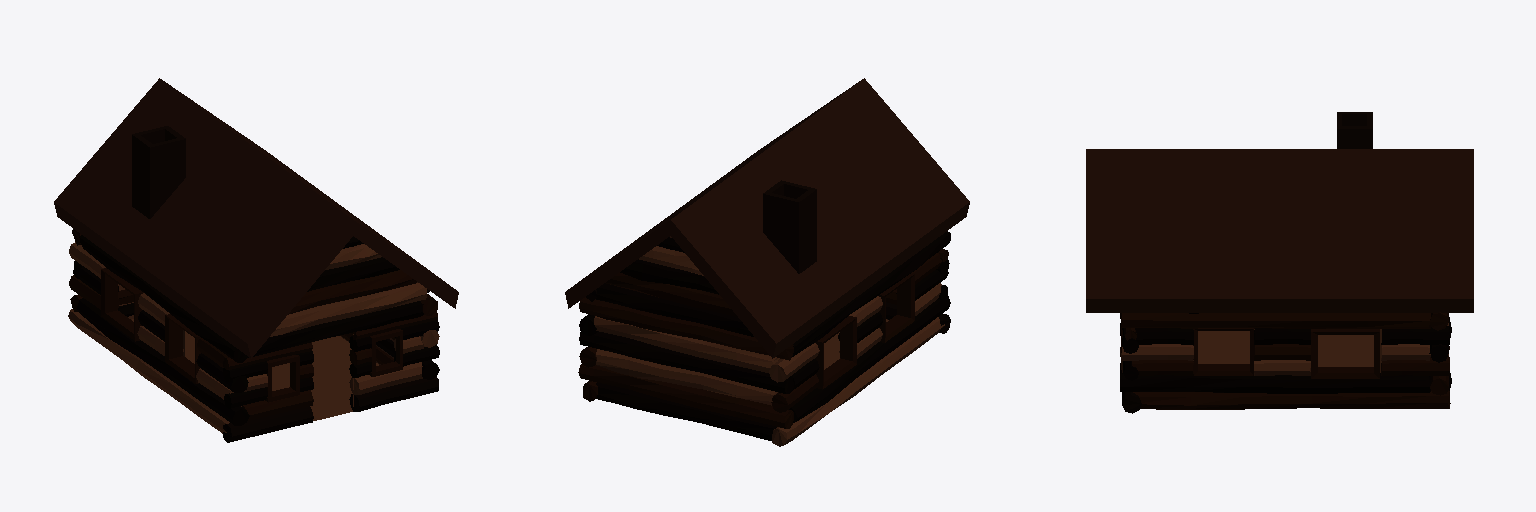
Rendered from cabana-roof-brown.obj.
3 renders of one model, left to right at view 1: azimuth 30°, elevation 25°; view 2: azimuth 150°, elevation 25°; view 3: azimuth 270°, elevation 25°, orthographic.
Parts seen in each view (by area): view 1: Roof_Cube.005, Chamine_Cube.004, House_Cube.001, log_base.005_Cylinder.015, log_base.026_Cylinder.047, log_base.025_Cylinder.046, log_base.004_Cylinder.014, log_base.007_Cylinder.017, log_base.027_Cylinder.048, Frame_Window_Front_Cube.009, Frame_Win_Side2_Cube.014, log_to_cut.030_Cylinder.061 (+11 smaller); view 2: Roof_Cube.005, Chamine_Cube.004, log_base.009_Cylinder.028, log_base.011_Cylinder.030, log_base.013_Cylinder.032, log_base.010_Cylinder.029, log_base.012_Cylinder.031, log_base.008_Cylinder.027, log_base.005_Cylinder.015, log_base.004_Cylinder.014, log_base.014_Cylinder.033, log_base.007_Cylinder.017 (+7 smaller); view 3: Roof_Cube.005, log_base.001_Cylinder.003, log_base_Cylinder.001, log_base.003_Cylinder.005, House_Cube.001, Frame_Win_Side2_Cube.014, Chamine_Cube.004, Frame_Win_Side1_Cube.013, log_to_cut.007_Cylinder.012, log_to_cut.006_Cylinder.011, log_to_cut.002_Cylinder.007, log_to_cut_Cylinder.002 (+5 smaller).
Part boxes in pixels (x1,y1,x2,y2): Roof_Cube.005: (54,78,458,358); Chamine_Cube.004: (132,126,185,218); House_Cube.001: (118,284,394,420); log_base.005_Cylinder.015: (77,298,249,425); log_base.026_Cylinder.047: (270,282,426,336); log_base.025_Cylinder.046: (248,301,423,357); log_base.004_Cylinder.014: (68,309,229,433); log_base.007_Cylinder.017: (79,235,247,362); log_base.027_Cylinder.048: (288,270,416,314); Frame_Window_Front_Cube.009: (265,329,402,402); Frame_Win_Side2_Cube.014: (101,268,143,341); log_to_cut.030_Cylinder.061: (223,406,313,442); Roof_Cube.005: (565,78,969,358); Chamine_Cube.004: (763,180,816,273); log_base.009_Cylinder.028: (578,364,793,428); log_base.011_Cylinder.030: (579,331,793,393); log_base.013_Cylinder.032: (579,297,793,360); log_base.010_Cylinder.029: (596,349,777,404); log_base.012_Cylinder.031: (594,316,780,372); log_base.008_Cylinder.027: (596,382,776,440); log_base.005_Cylinder.015: (789,295,950,422); log_base.004_Cylinder.014: (772,317,944,446); log_base.014_Cylinder.033: (596,283,753,336); log_base.007_Cylinder.017: (792,231,950,356); Roof_Cube.005: (1086,149,1473,312); log_base.001_Cylinder.003: (1120,373,1430,393); log_base_Cylinder.001: (1133,390,1450,409); log_base.003_Cylinder.005: (1121,313,1430,328); House_Cube.001: (1198,329,1381,372); Frame_Win_Side2_Cube.014: (1311,329,1379,378); Chamine_Cube.004: (1337,112,1372,148); Frame_Win_Side1_Cube.013: (1193,328,1253,375); log_to_cut.007_Cylinder.012: (1381,356,1449,375); log_to_cut.006_Cylinder.011: (1381,326,1449,344); log_to_cut.002_Cylinder.007: (1121,344,1193,360); log_to_cut_Cylinder.002: (1132,328,1193,344).
Bounding box in the file's own units: 2.97 × 2.83 × 4.65.